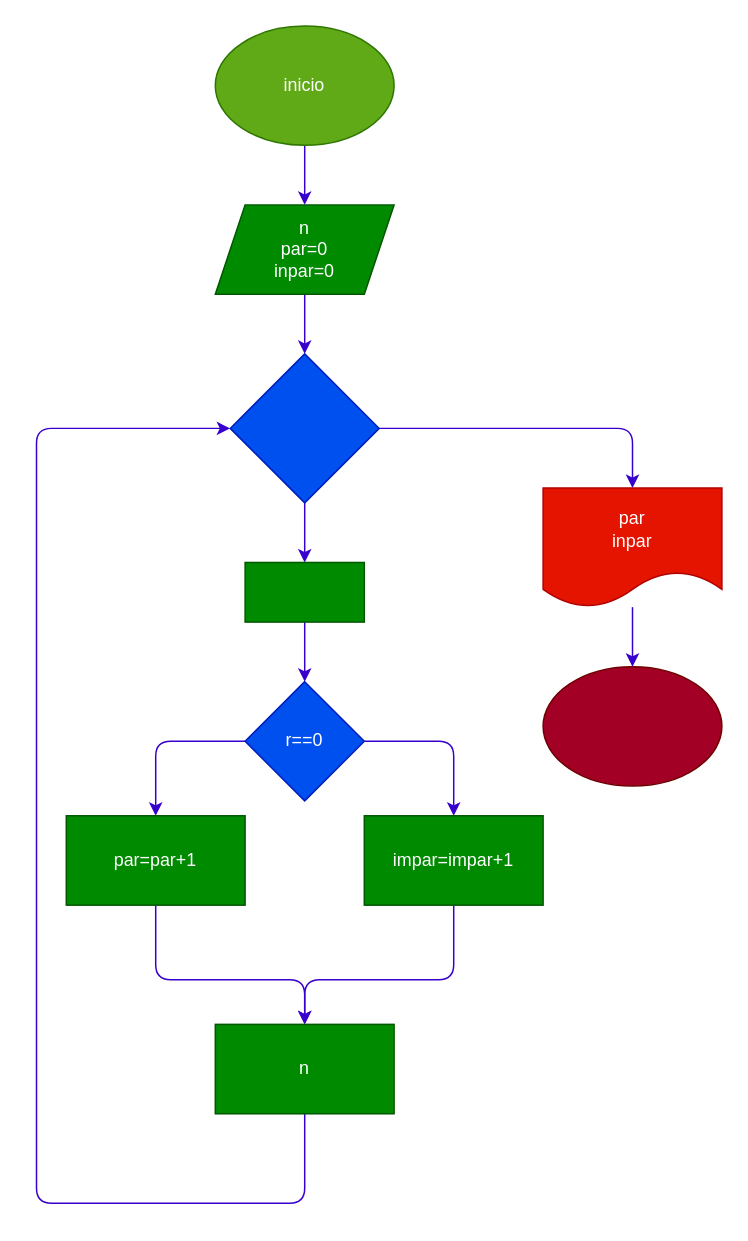
The diagram is 748 pixels wide and 1241 high, and some of its shapes have lost their labels. The shapes that lost their labels are listed below. From the top down, each one's box as (x1, y1, x2, y2) in pixels, then its label:
(229, 352, 379, 503): n != 0
(244, 561, 364, 622): n % 2
(542, 665, 722, 786): fin
